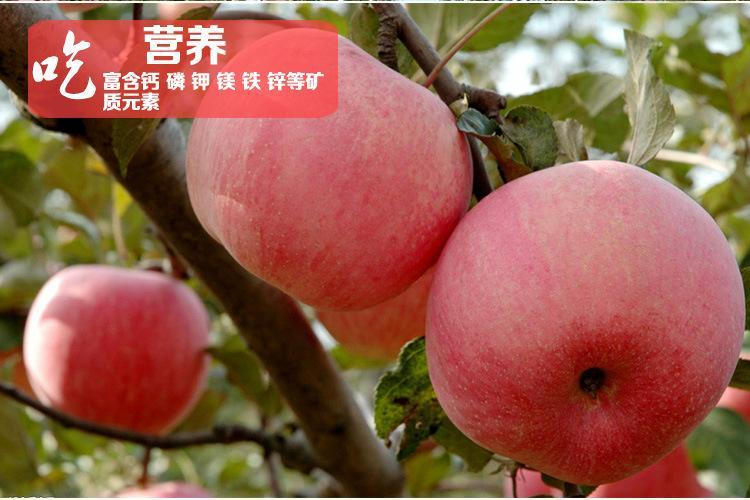apple: (418, 157, 746, 490), (182, 26, 474, 313), (20, 266, 211, 441)
